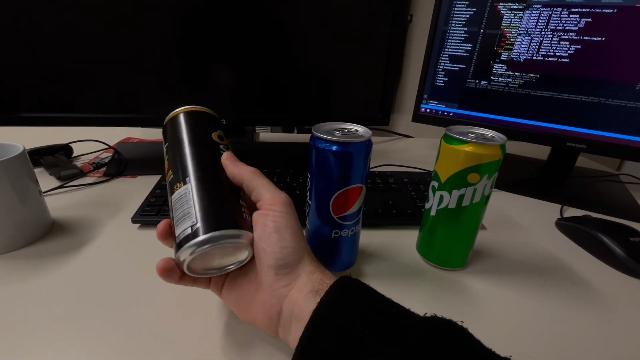OranSoda: (162, 104, 258, 280)
Pepsi: (304, 119, 374, 275)
Sprite: (414, 123, 508, 272)
